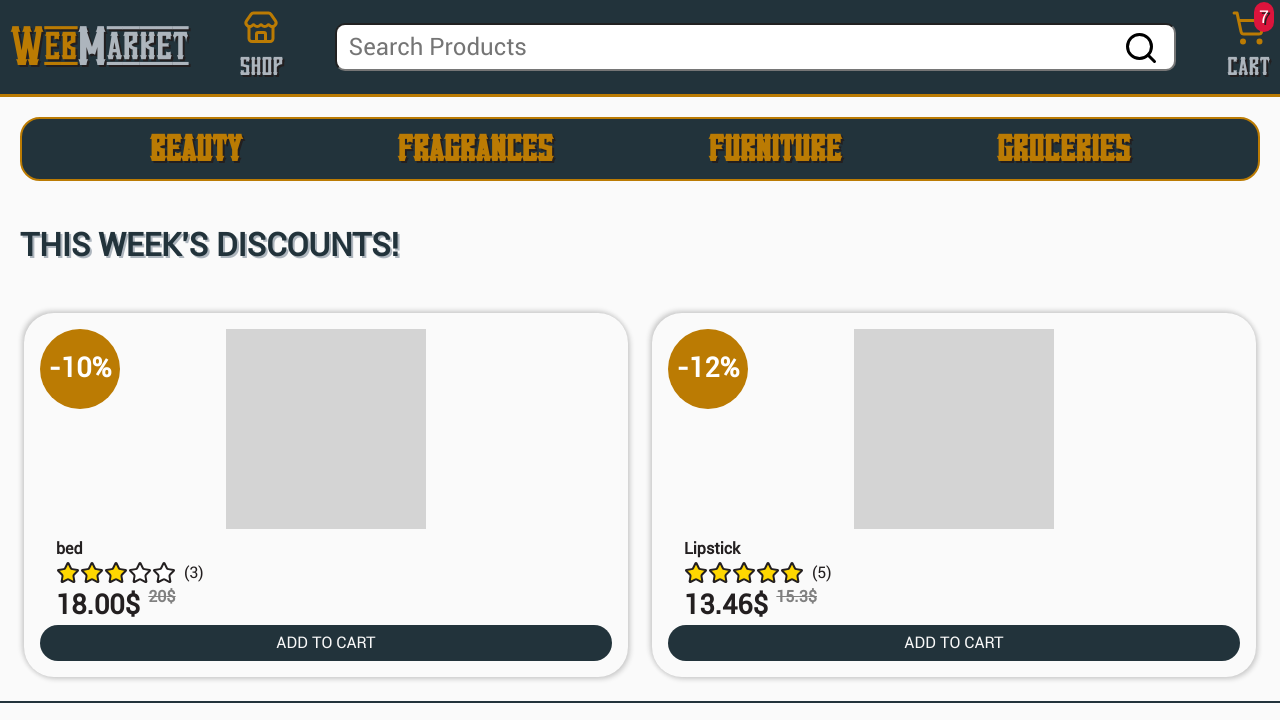
Test case: Shop component › groceries link redirects to the groceries category
Click the link "GROCERIES" at (1064, 148), box [997, 129, 1130, 168]
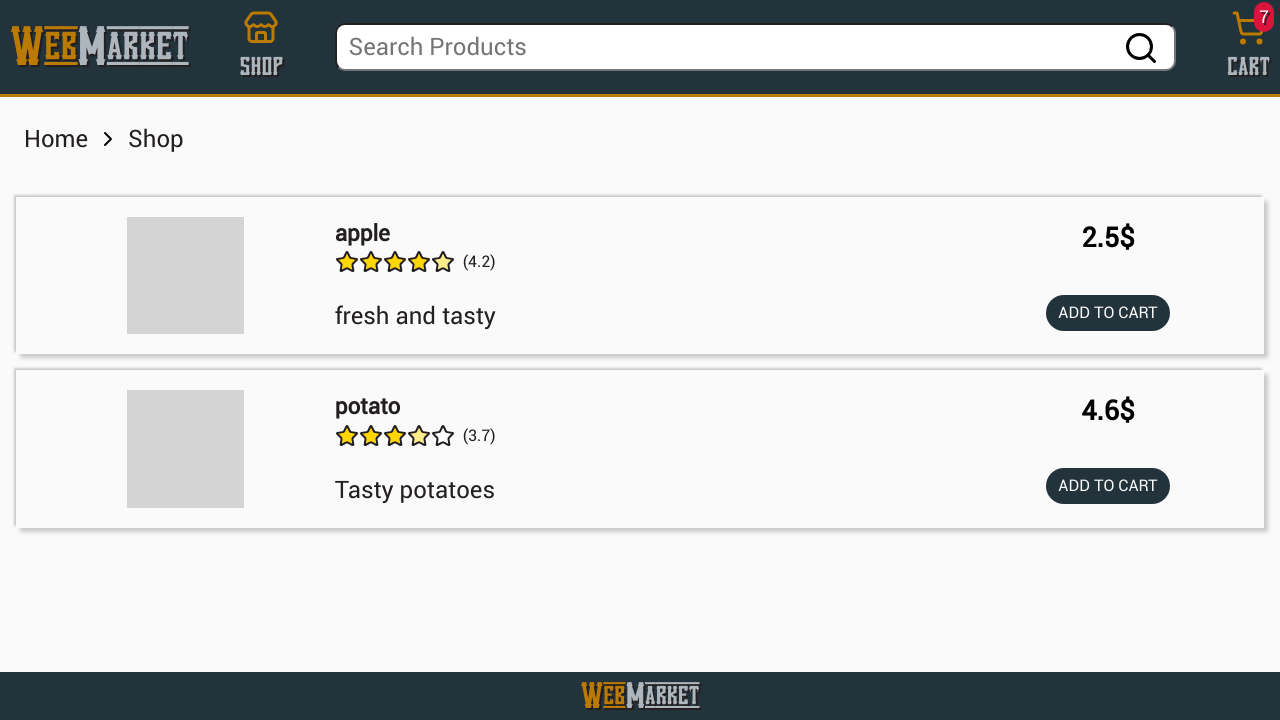
Expected: the heading "apple" is shown, [335, 220, 390, 246]
Expected: the heading "potato" is shown, [335, 393, 400, 419]
